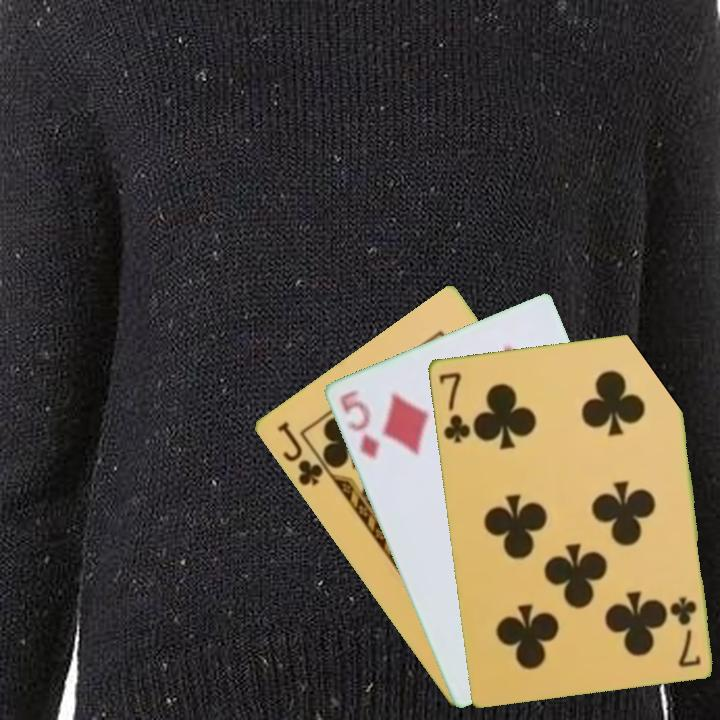5d: (335, 386, 382, 462)
7c: (435, 368, 473, 445), (668, 593, 703, 670)
Jc: (273, 417, 326, 489)
